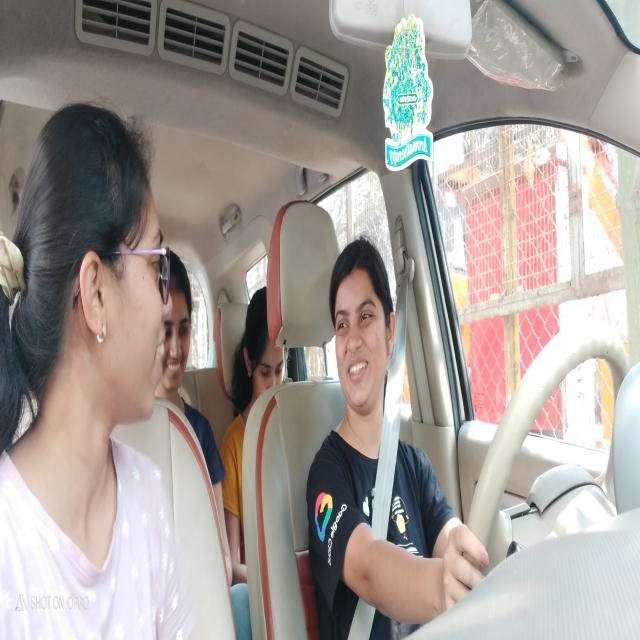LeftRight: (328, 222, 400, 446)
person: (16, 87, 175, 449), (246, 281, 292, 414), (167, 246, 194, 404)
talking: (148, 325, 169, 383), (346, 355, 371, 389)
